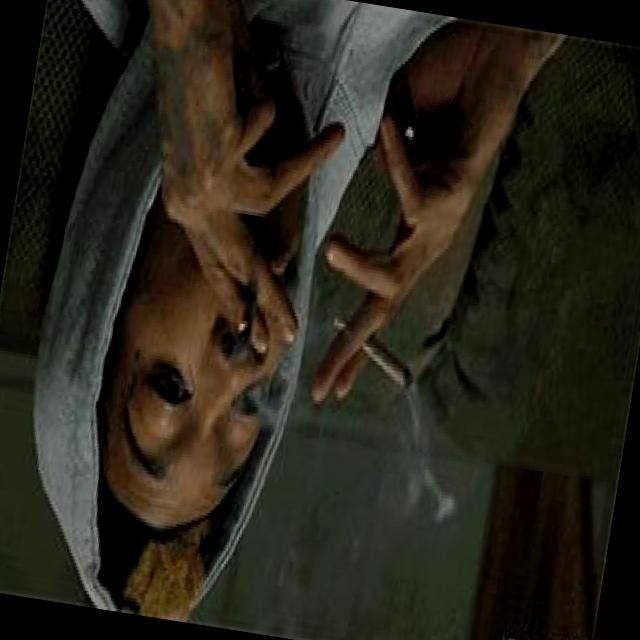smoke: (298, 300, 448, 472), (211, 244, 304, 379)
